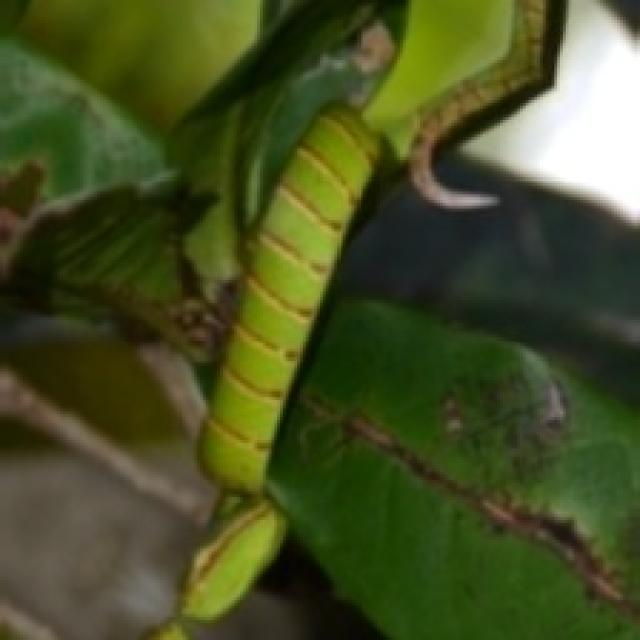north ph temple pitviper: (146, 0, 563, 637)
